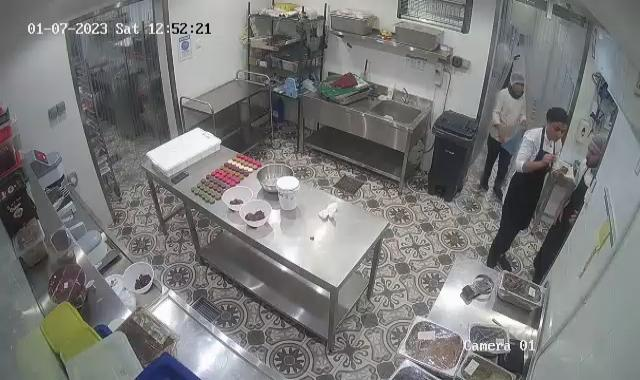hairnet: (508, 70, 528, 91), (589, 135, 606, 159)
no_hairnet: (544, 106, 570, 130)
